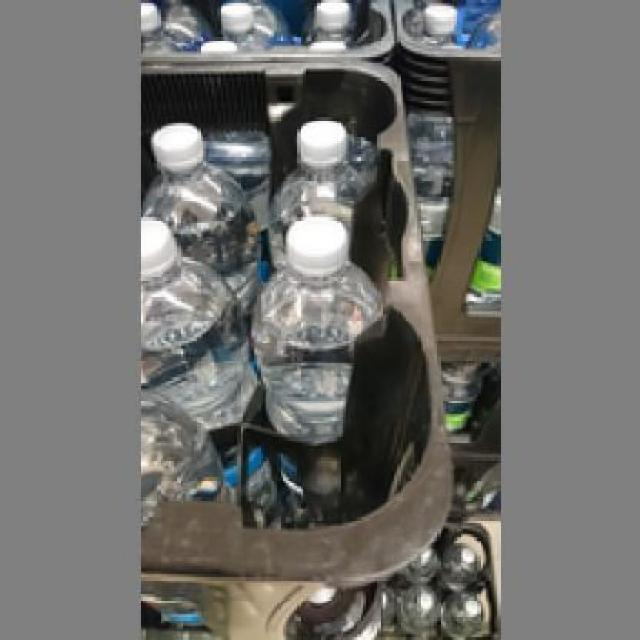Water: (245, 214, 388, 432), (136, 213, 250, 430), (140, 112, 263, 288), (263, 120, 363, 254)
